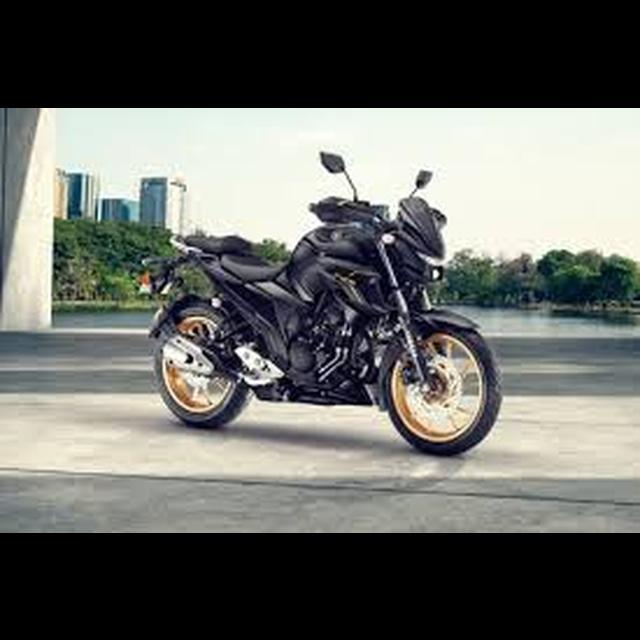motorcycle: (137, 143, 503, 461)
